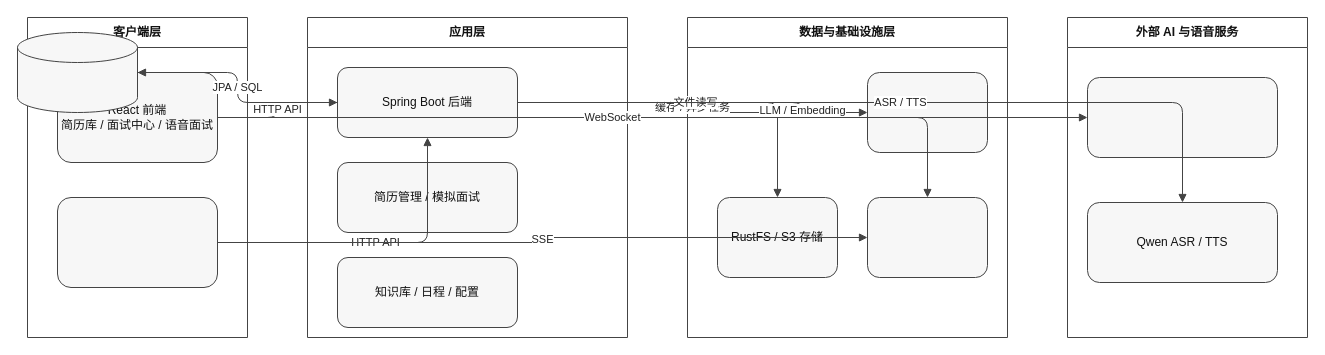
This 1325x355 diagram has some shape labels left out. Each missing label, with the centre of its shape:
"OpenAI 兼容聊天模型" goes at [1182,117].
"PostgreSQL pgvector" goes at [77,72].
"Redis / Redis Stream" goes at [927,112].
"WebSocket / SSE" goes at [927,237].
"知识库问答 日程管理 / 设置页" goes at [137,242].
